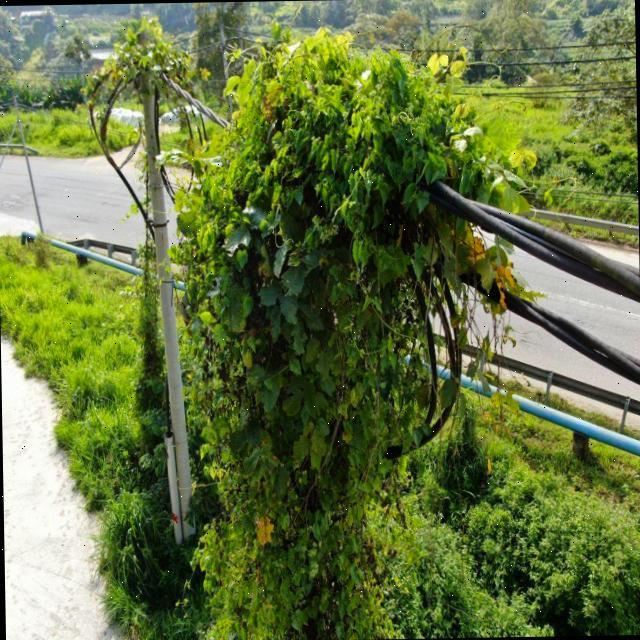critical vegetation: (177, 59, 540, 640), (114, 11, 178, 416)
